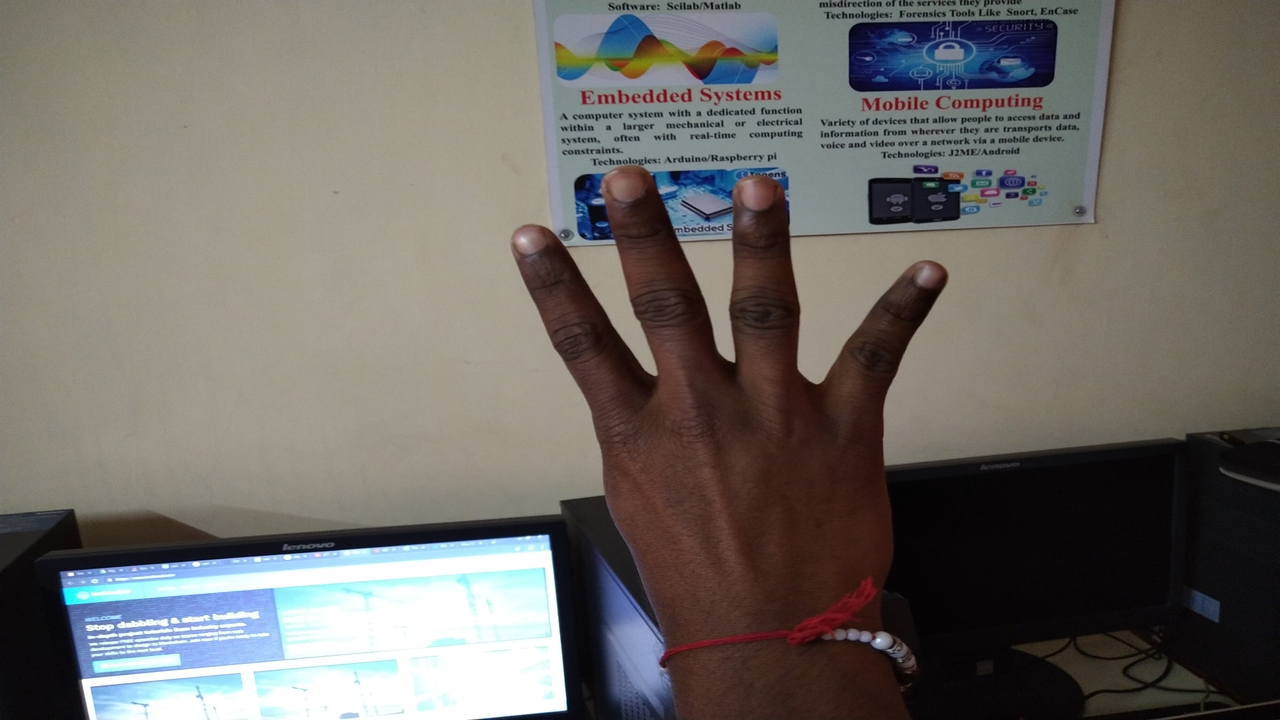fingertip: (724, 168, 794, 228), (896, 250, 958, 308), (600, 158, 662, 216), (500, 216, 560, 270)
